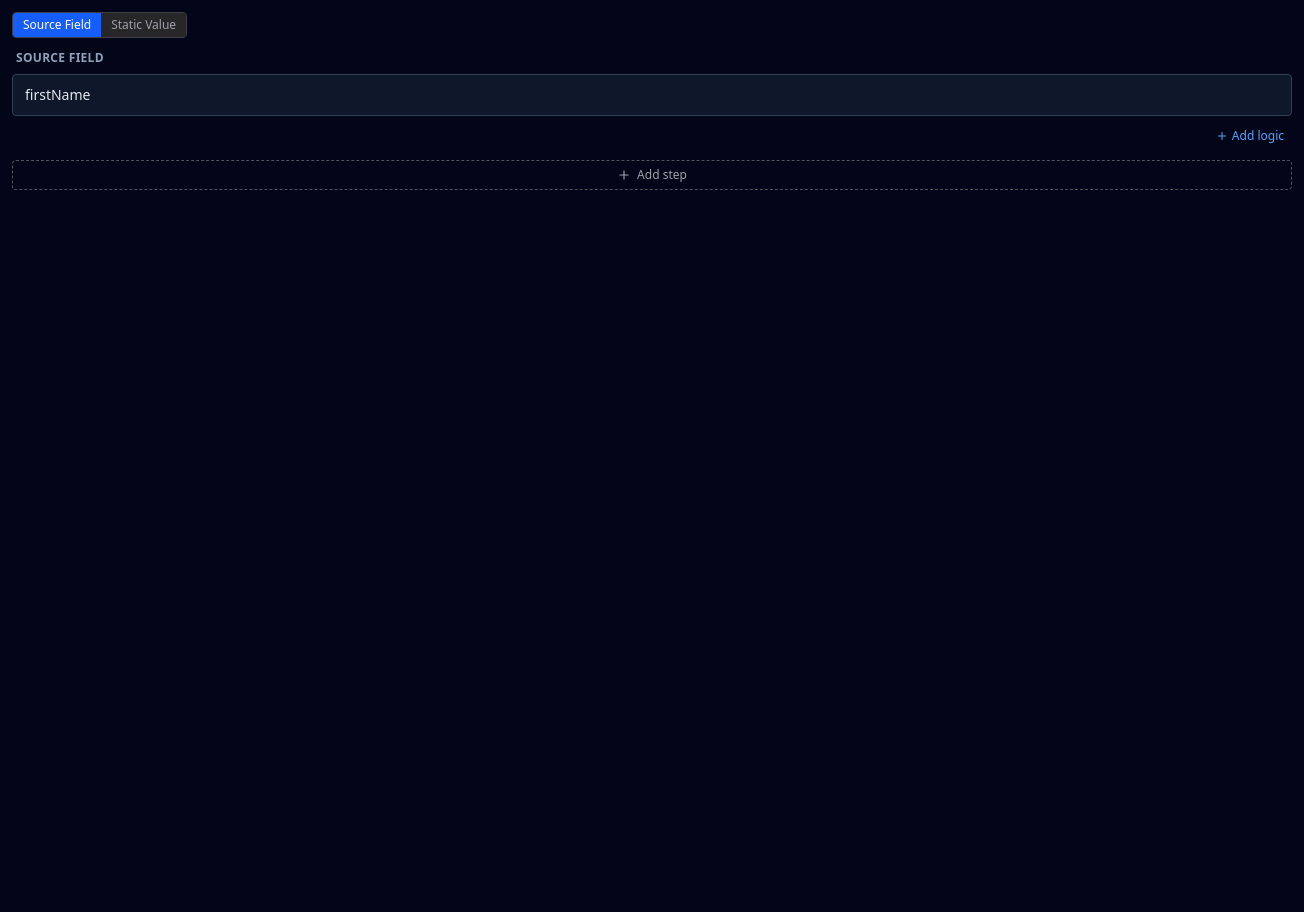
Test: ChainBuilder › opens step picker when [+ Add Step] is clicked
The image size is (1304, 912).
Click the button with test id "chain-add-step-btn": (652, 175) 12,160 -> 1292,190
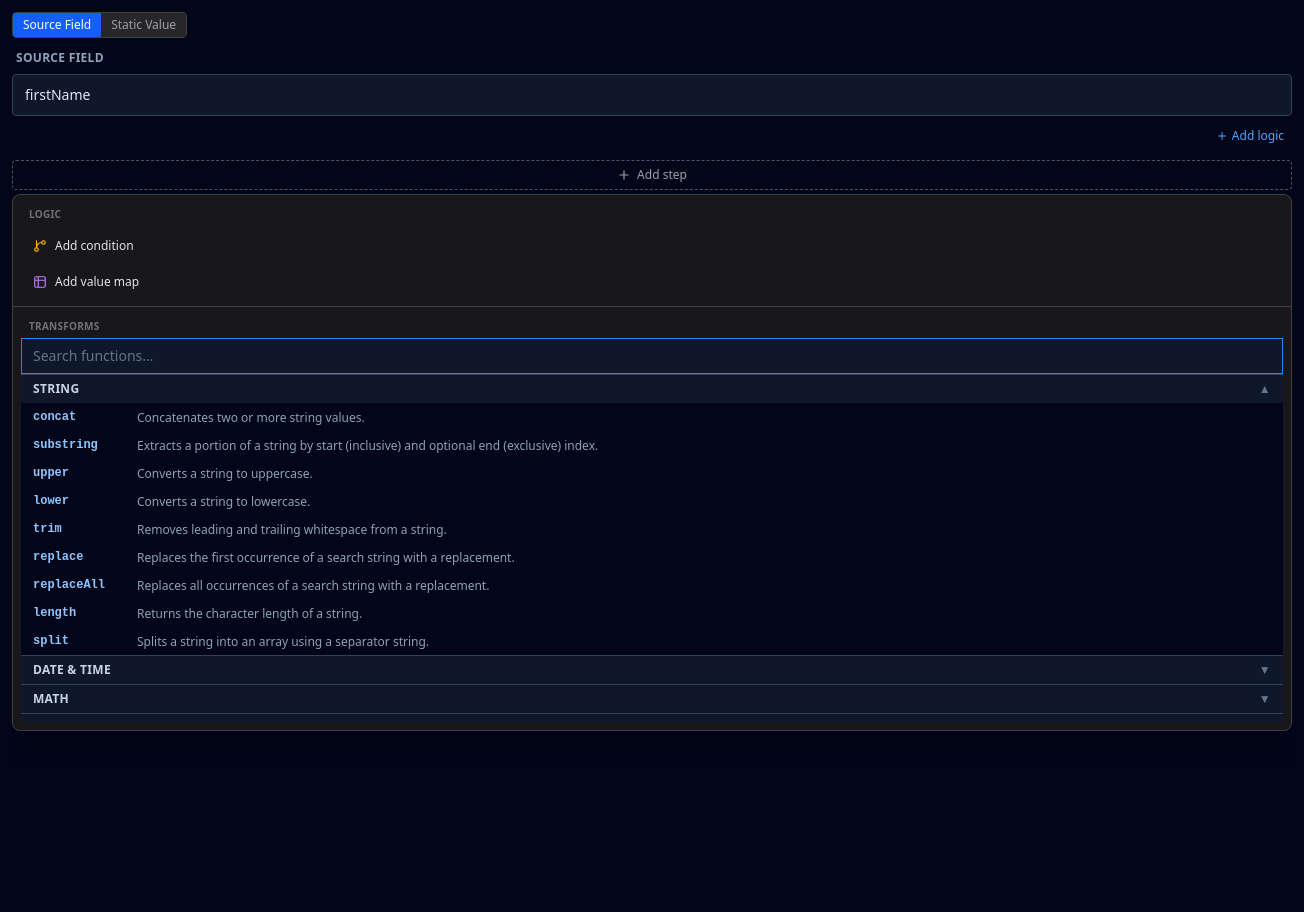
Result: the element with test id "chain-step-picker" is shown at 12,194 -> 1292,731
